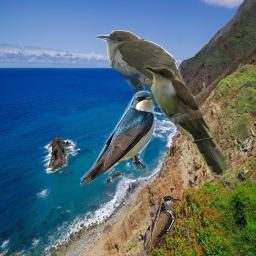Cuckoo: (97, 30, 203, 151), (143, 64, 230, 178), (143, 196, 190, 255)
Swallow: (77, 88, 159, 187)
